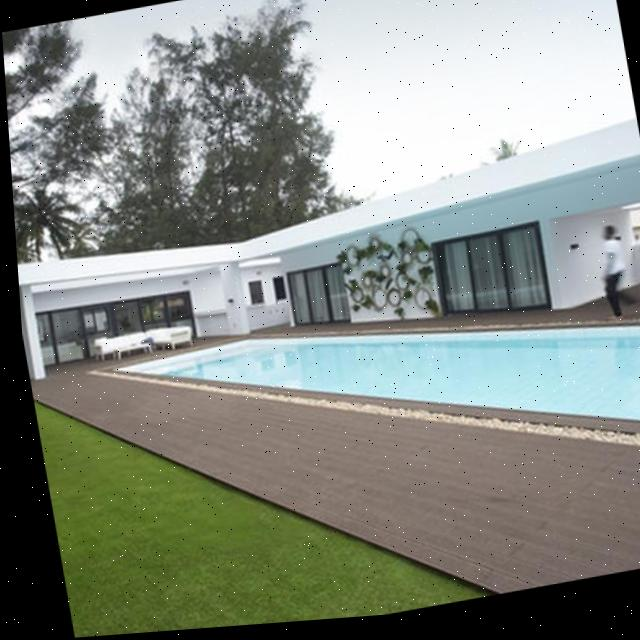building: (11, 113, 640, 420)
